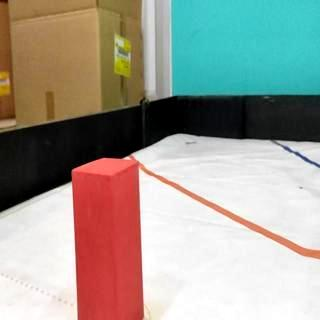redbox: (71, 157, 145, 320)
